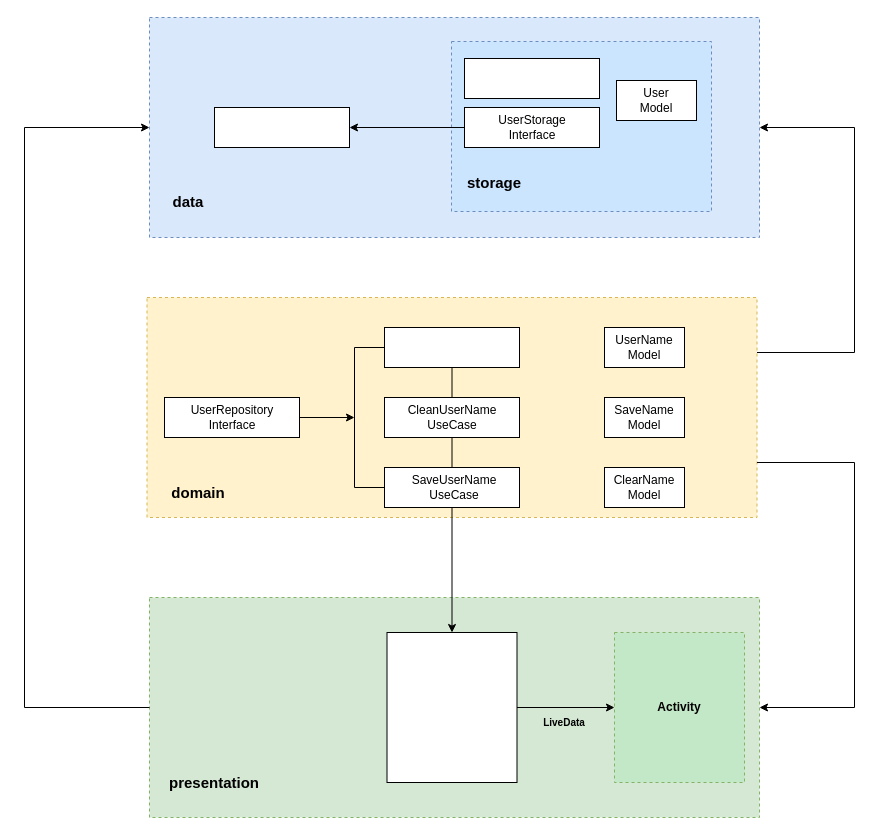
Image size: 880x835. Some labels were removed from this diagram. Each missing label, with the centre of its shape:
"GetUserName UseCase" belongs at (452,347).
"SharedPrefUserStorage Implementation" belongs at (532,78).
"UserRepositoryImpl Implementation" belongs at (282,127).
"ViewModel" belongs at (451,707).
